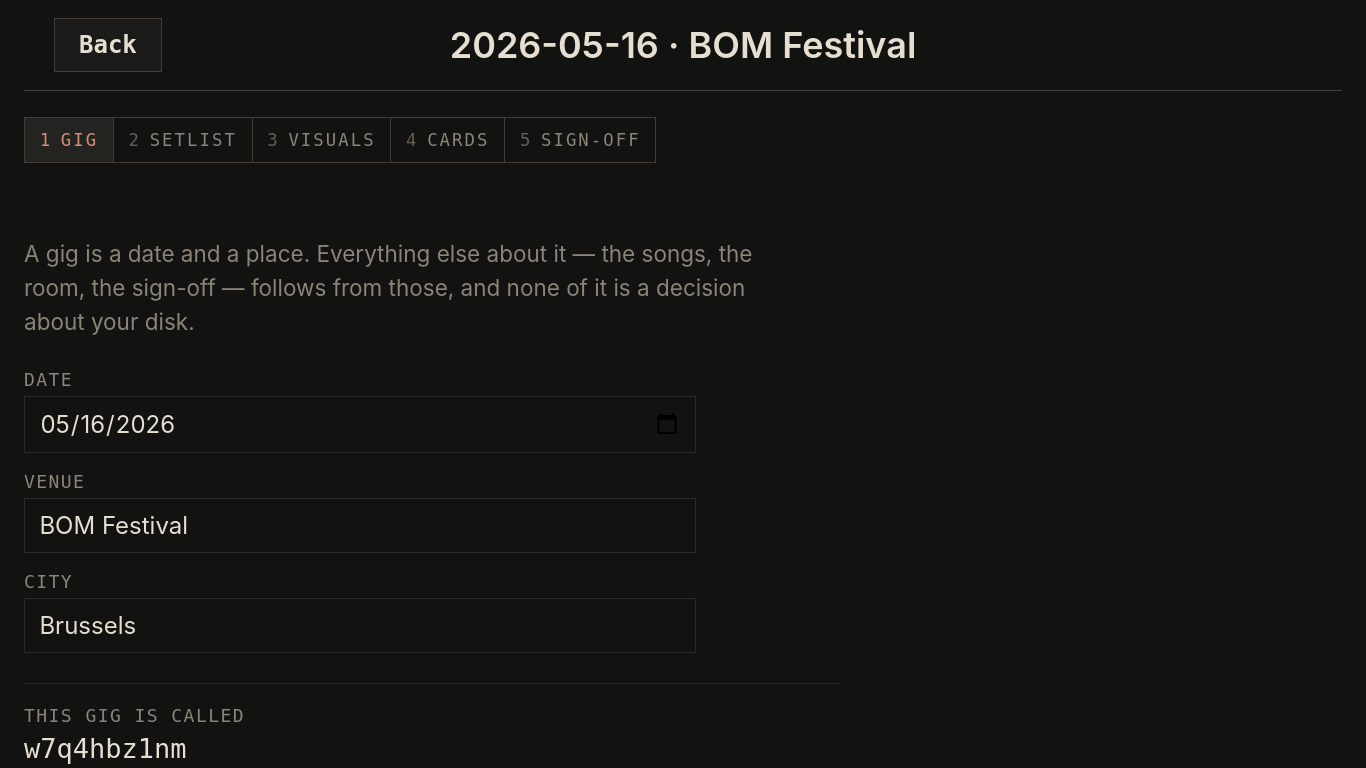
Test: the check screen › is one line per thing that has to be true, and asks for nothing
This screenshot has width=1366, height=768.
Step 1. Click the button with test id "gig-flow-step-5" → coordinates (580, 140), box [505,118,655,162]
(page scrolled)
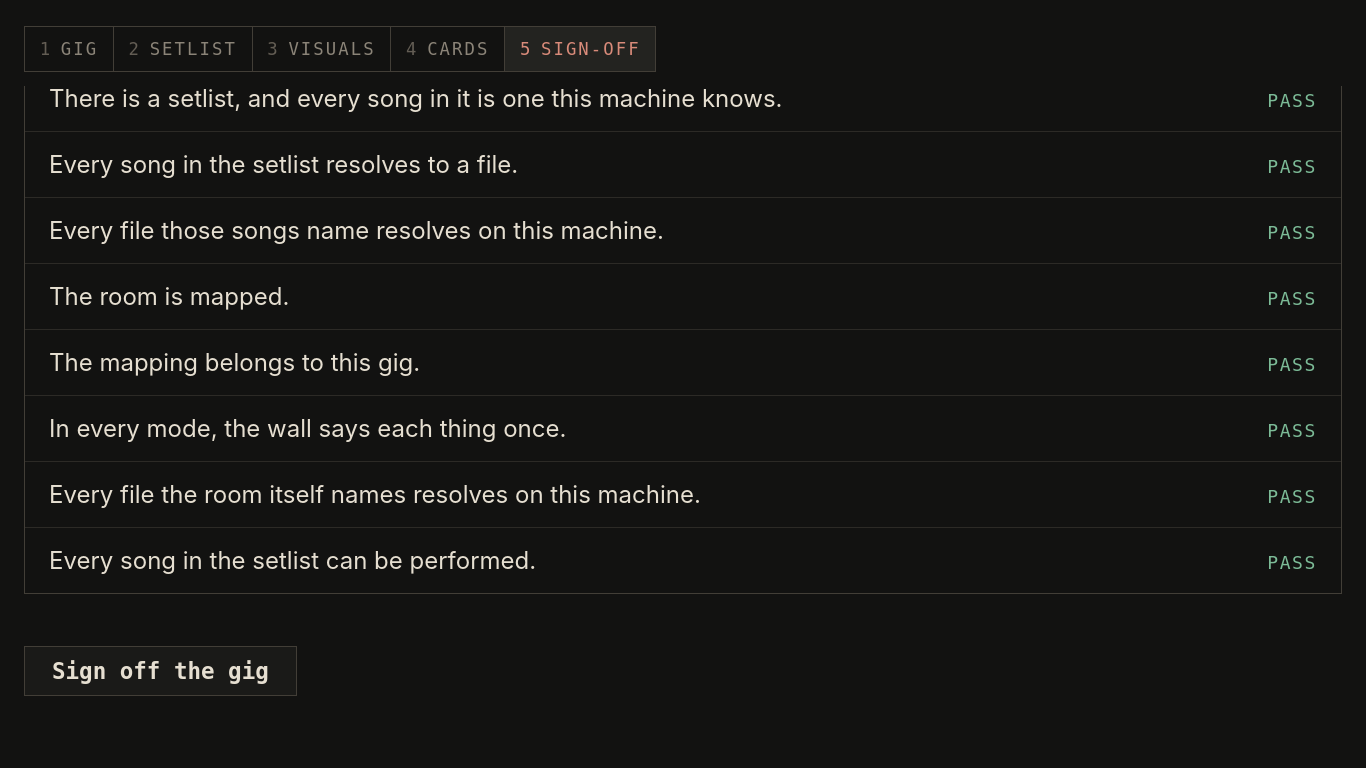
Check: the list item with test id "gig-check-gig" is shown, box [25,0,1341,66]
Check: the list item with test id "gig-check-setlist" is shown, box [25,66,1341,132]
Check: the list item with test id "gig-check-files" is shown, box [25,132,1341,198]
